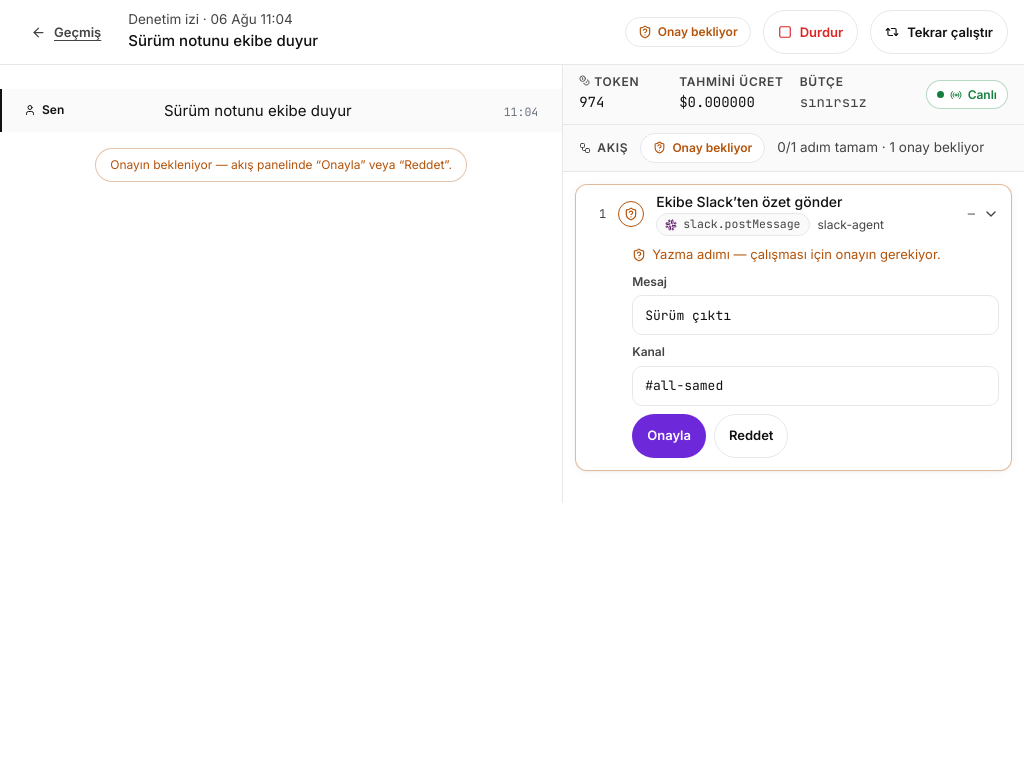
Test: a_decision_that_never_reached_the_server_is_not_reported_as_a_bad_parameter
Click the button "Onayla": (669, 436) [632,414,706,458]
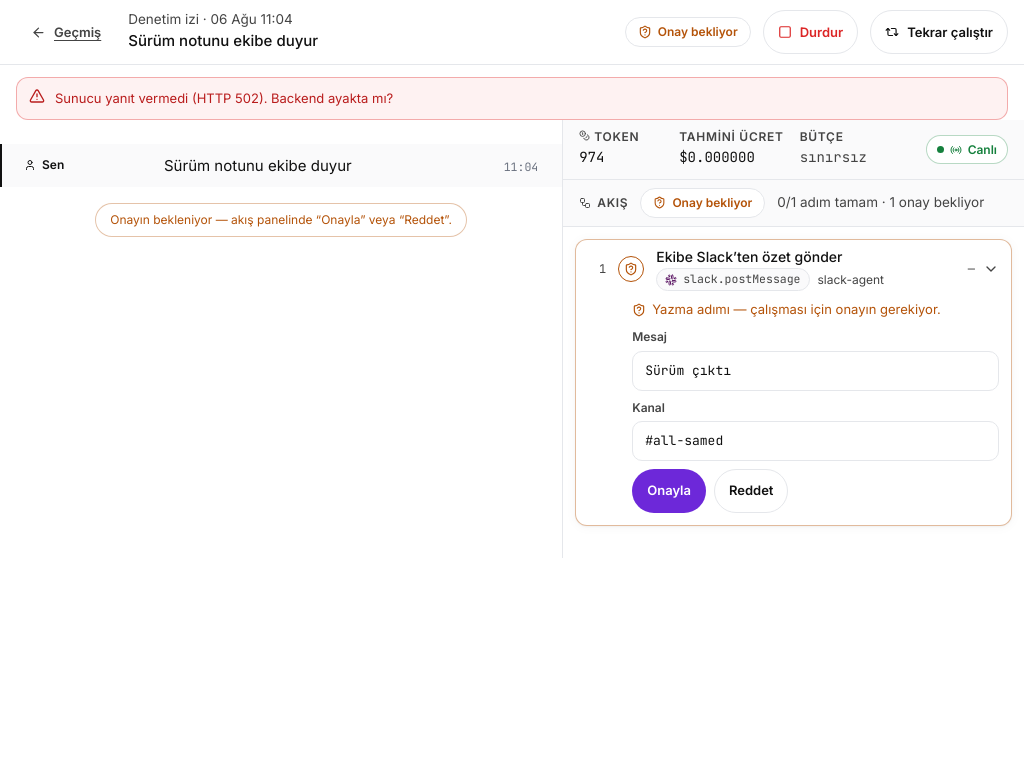
Expected: the button "Onayla" is shown, [632,469,706,513]
Expected: the message "Sunucu yanıt vermedi (HTTP 502). Backend ayakta mı?" is shown, [16,77,1008,120]
